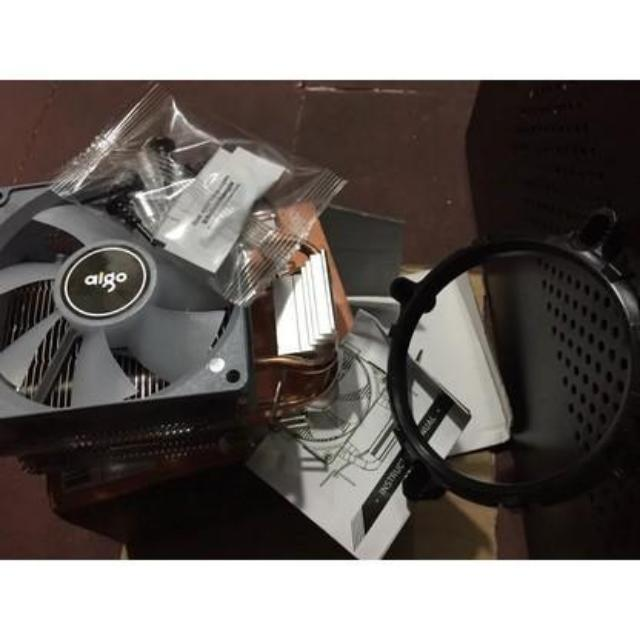CPU_Fan: (0, 150, 346, 513)
